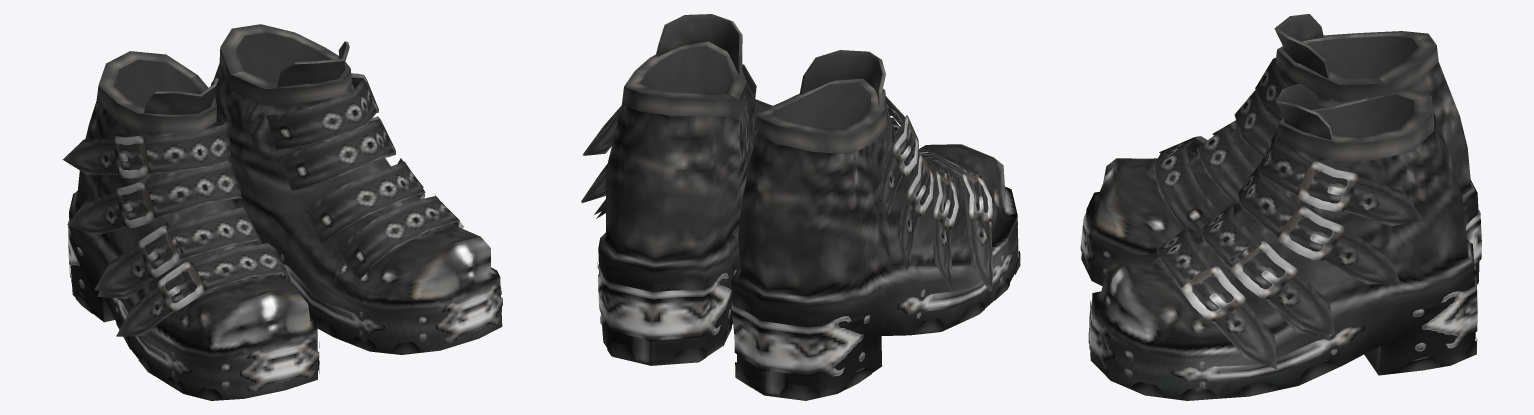
File: Goth_Ankle_Ground.fbx
3 renders of one model, left to right at view 1: azimuth 30°, elevation 25°; view 2: azimuth 150°, elevation 25°; view 3: azimuth 270°, elevation 25°, orthographic. The views are drawn at different scales.
Parts seen in each view (by area): view 1: Goth_Ankle; view 2: Goth_Ankle; view 3: Goth_Ankle.
Part boxes in pixels (x1,y1,x2,y2): Goth_Ankle: (62, 24, 502, 400); Goth_Ankle: (581, 14, 1020, 400); Goth_Ankle: (1080, 14, 1481, 400).
Size of the model in its own units: 0.1605 by 0.1032 by 0.1579.
